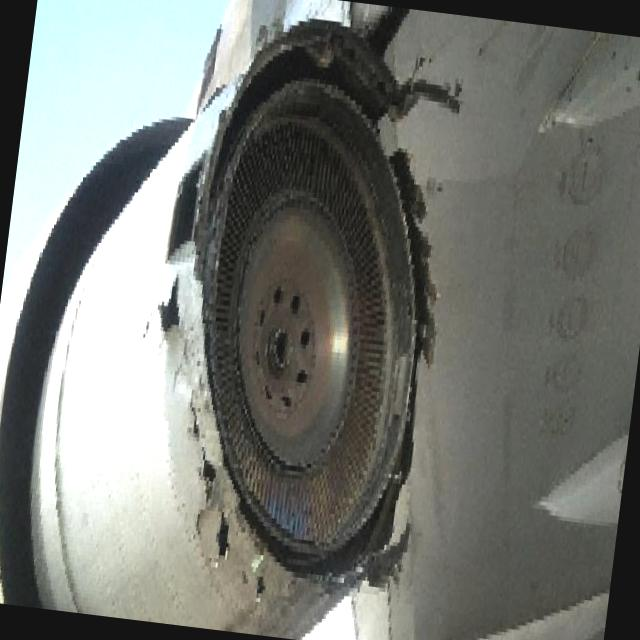crack: (117, 267, 308, 611)
